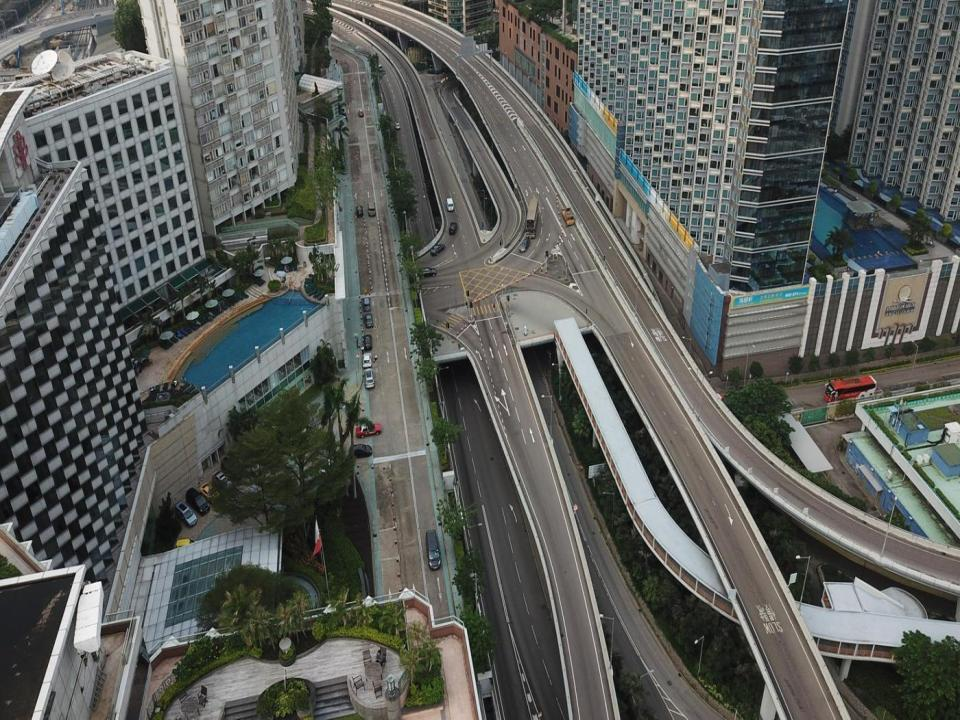bus: (824, 374, 876, 404), (526, 198, 538, 238)
car: (356, 422, 381, 439), (200, 483, 220, 504), (212, 470, 232, 491), (347, 443, 372, 458), (418, 266, 436, 278), (430, 243, 446, 256), (361, 353, 372, 368), (364, 313, 374, 328), (519, 239, 530, 252), (364, 334, 372, 350), (358, 109, 364, 117), (394, 120, 400, 128)
truck: (562, 206, 573, 225)
van: (288, 404, 316, 429), (185, 487, 210, 514), (425, 529, 441, 570), (175, 502, 197, 527), (221, 456, 243, 481), (176, 539, 199, 553), (364, 369, 374, 388), (362, 297, 372, 312), (368, 202, 376, 216), (446, 197, 454, 211), (449, 221, 456, 234), (374, 63, 384, 72), (356, 206, 363, 218)
